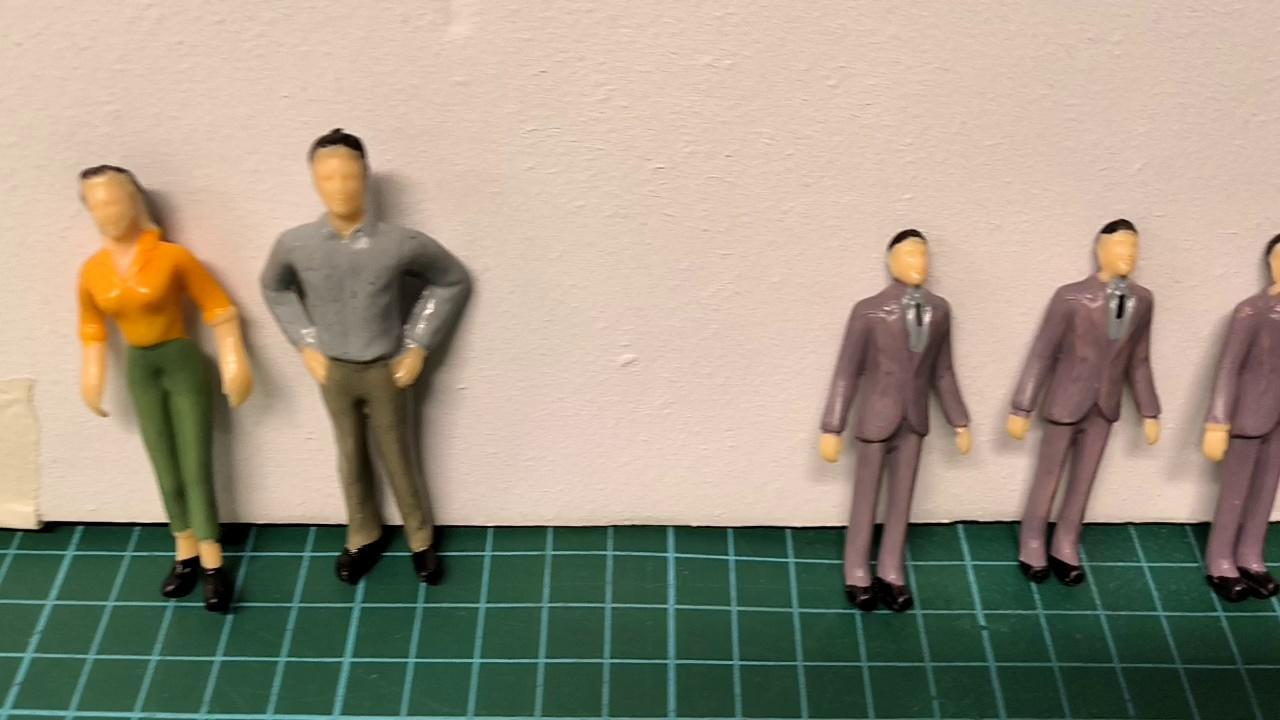human: (252, 128, 471, 585), (69, 167, 255, 614), (803, 225, 980, 625), (994, 215, 1170, 603), (1189, 225, 1280, 607)
